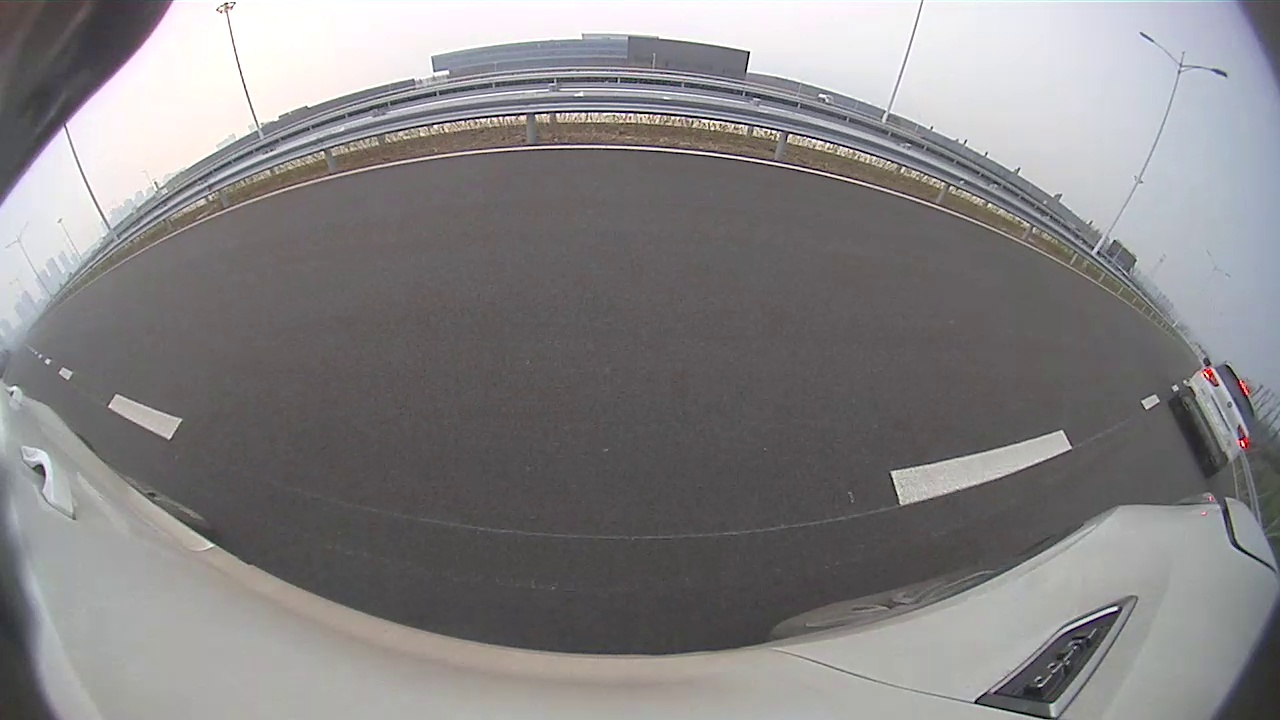car: (1174, 358, 1256, 477)
